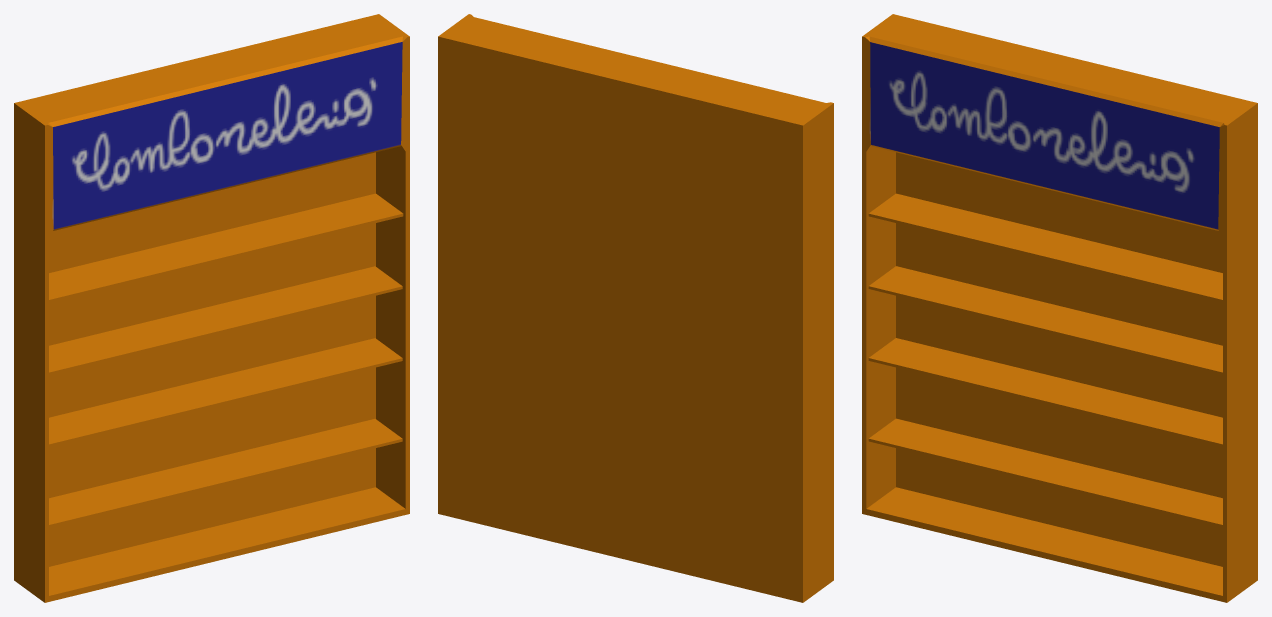
File: Shelf_High_4.fbx
3 renders of one model, left to right at view 1: azimuth 30°, elevation 25°; view 2: azimuth 150°, elevation 25°; view 3: azimuth 330°, elevation 25°, orthographic.
Parts seen in each view (by area): view 1: Shelf_High_4; view 2: Shelf_High_4; view 3: Shelf_High_4.
Boxes of the visible parts, x1,y1,x2,y2 form: Shelf_High_4: [14, 14, 409, 602]; Shelf_High_4: [438, 14, 833, 602]; Shelf_High_4: [862, 14, 1257, 602].
Size of the model in its own units: 150 by 188 by 21.96.
